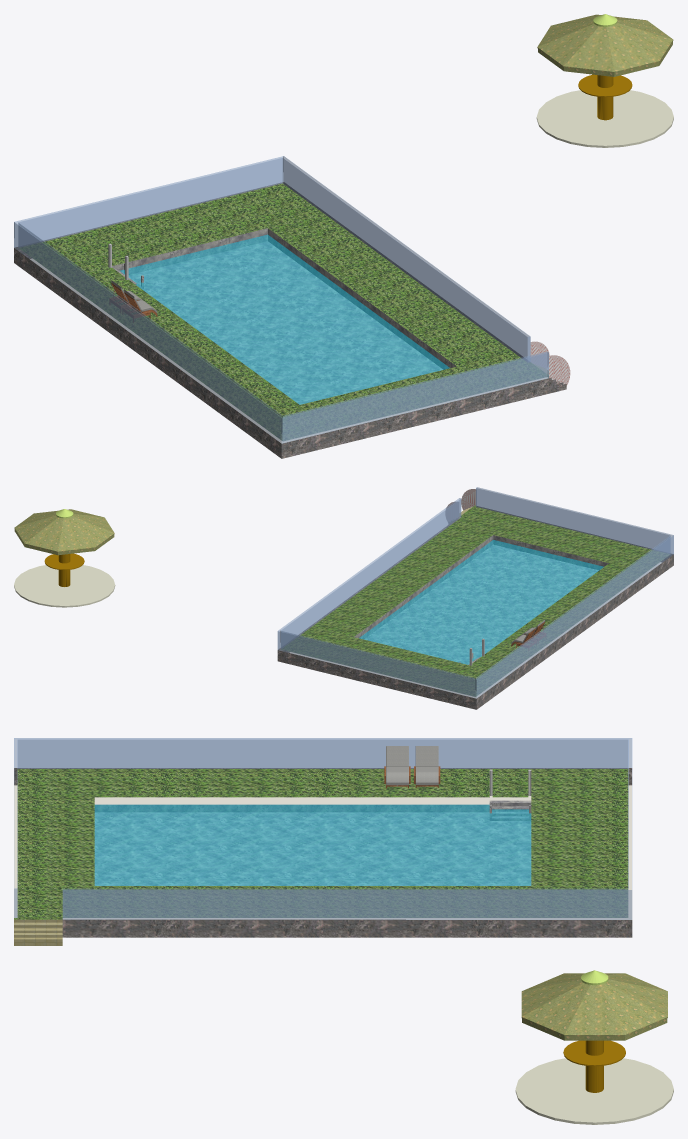
The model's file is swimming_pool.glb.
The picture shows the model from 3 angles, top to bottom: view 1: azimuth 30°, elevation 25°; view 2: azimuth 150°, elevation 25°; view 3: azimuth 270°, elevation 25°; orthographic projection. The views are drawn at different scales.
Parts seen in each view (by area): view 1: Model, Flr_Stem1, Summer_Hut; view 2: Model, Flr_Stem1, Summer_Hut; view 3: Model, Flr_Stem1, Summer_Hut, Group3, Group1.
Boxes of the visible parts, left/top/right/bottom form: Model: left=14, top=156, right=570, bottom=458; Flr_Stem1: left=536, top=74, right=673, bottom=147; Summer_Hut: left=537, top=14, right=673, bottom=76; Model: left=277, top=487, right=673, bottom=709; Flr_Stem1: left=14, top=553, right=115, bottom=607; Summer_Hut: left=14, top=509, right=114, bottom=555; Model: left=14, top=738, right=632, bottom=945; Flr_Stem1: left=515, top=1040, right=673, bottom=1124; Summer_Hut: left=521, top=970, right=667, bottom=1040; Group3: left=415, top=746, right=438, bottom=785; Group1: left=386, top=746, right=408, bottom=785.
Size of the model in its own units: 630 by 114 by 492.
20 materials, 14 textured.
